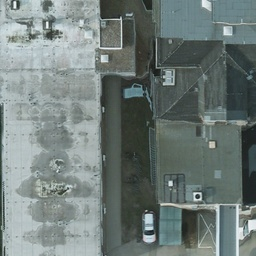car: (141, 209, 158, 245)
